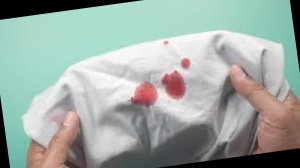blood: (129, 81, 160, 107), (161, 70, 187, 100), (181, 57, 190, 69)
